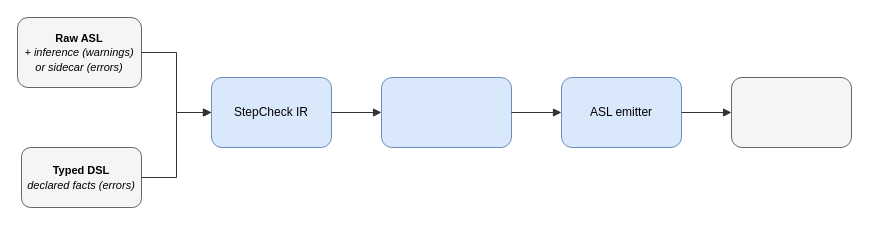
Image size: 869x225. Some labels were removed from this diagram. The centre of each missing label's shape, as x and y in pixels:
"AWS Step Functions" goes at (791,112).
"Eight analysis passes" goes at (446,112).
